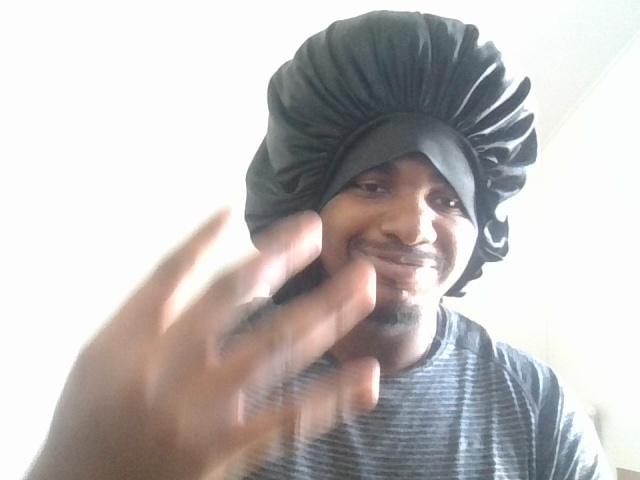I am Better Than Yu: (36, 192, 383, 471)
